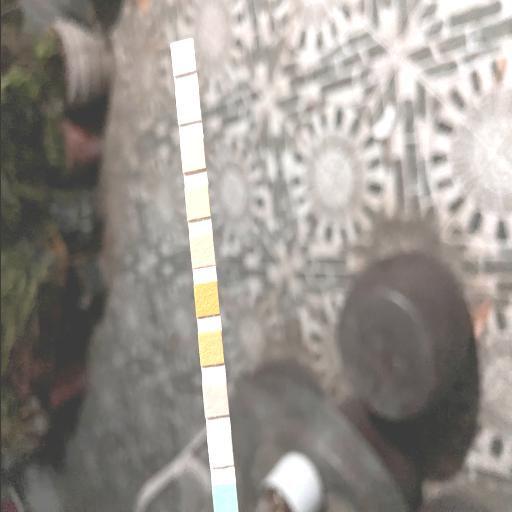Bilirubin: (208, 434, 230, 465)
Blood: (196, 284, 216, 314)
Glucose: (213, 484, 235, 510)
Ketone: (204, 383, 226, 415)
Leukocytes: (172, 43, 192, 71)
Nitrite: (178, 92, 198, 120)
Protein: (186, 188, 206, 215)
SpGravity: (200, 333, 220, 363)
Urobilinogen: (182, 140, 202, 168)
pH: (190, 236, 212, 266)
strip: (169, 37, 239, 511)
